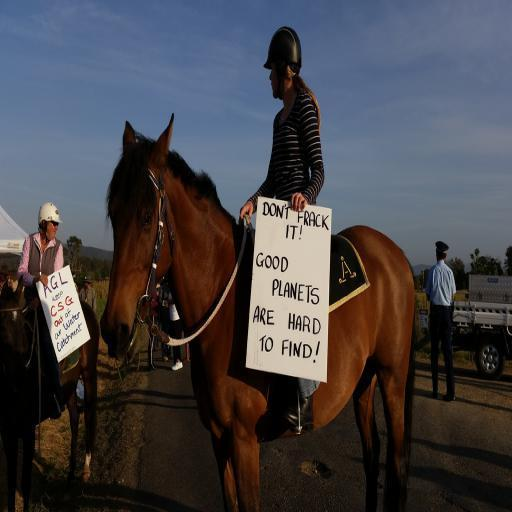horse: (100, 110, 415, 512), (0, 274, 99, 510)
